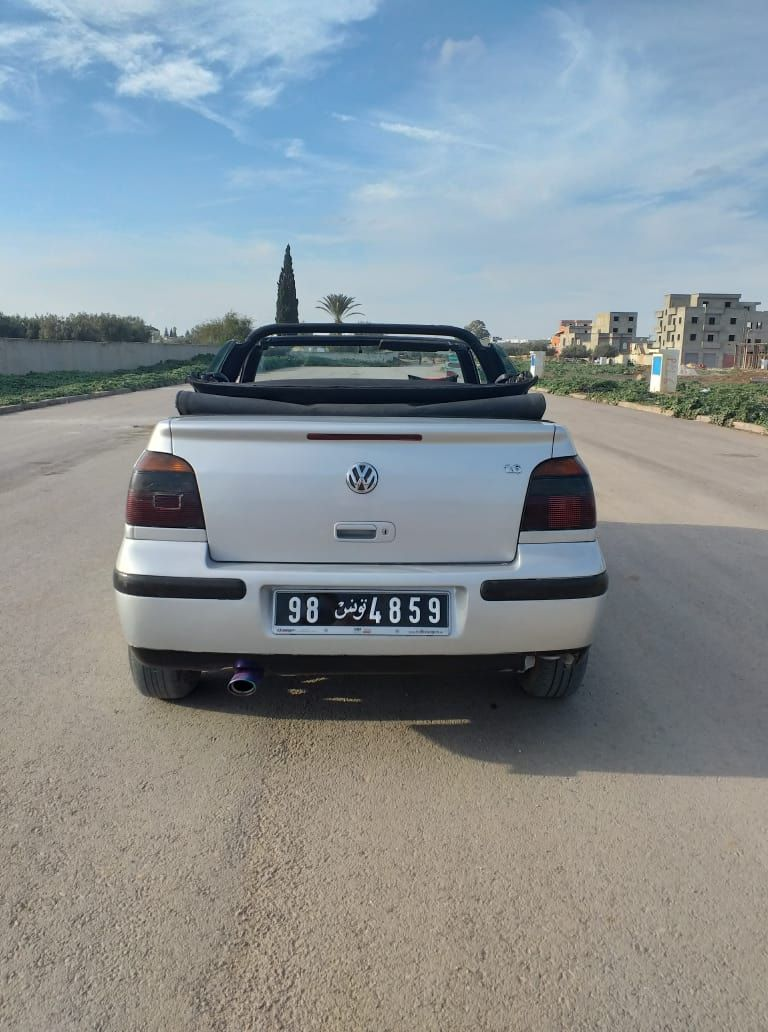LP: (273, 588, 451, 630)
